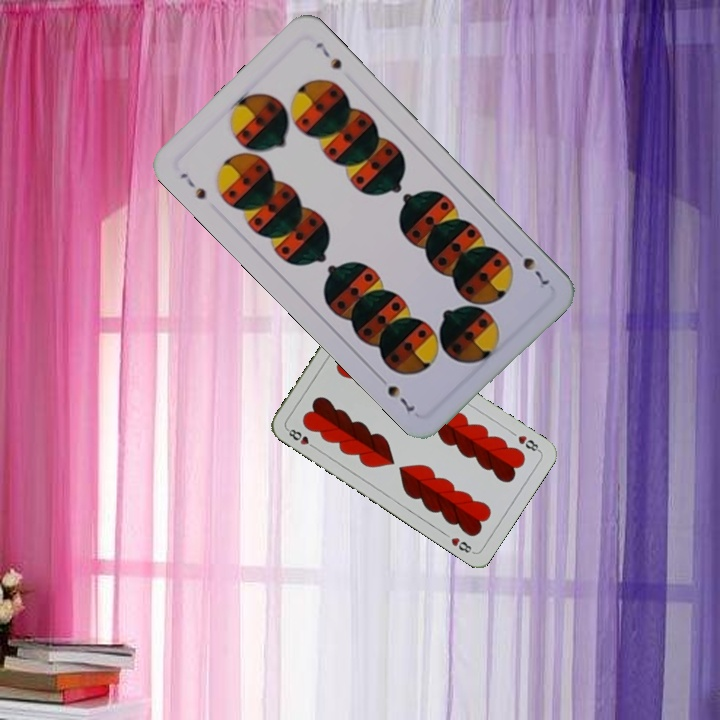H8: (283, 424, 319, 451), (514, 431, 543, 455)
S7: (509, 243, 552, 288), (176, 168, 209, 202)
